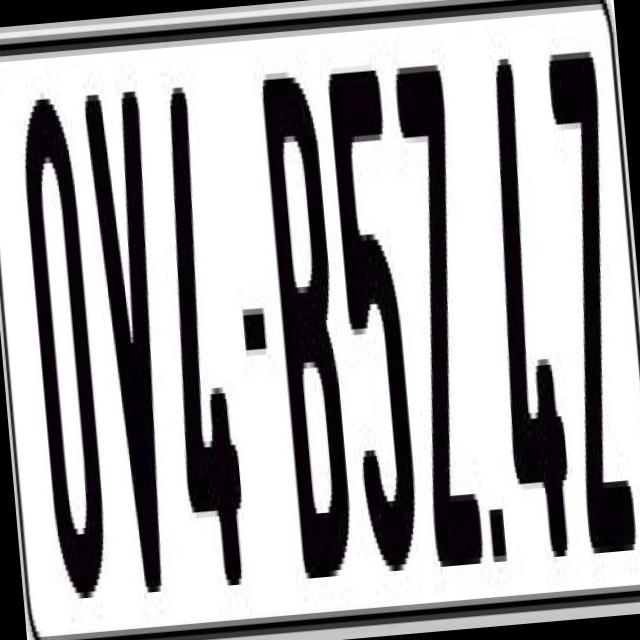0: (16, 85, 113, 600)
4: (474, 39, 580, 578), (151, 84, 256, 624)
5: (325, 57, 431, 596)
B: (256, 69, 360, 602)
V: (82, 72, 190, 594)
Z: (389, 58, 486, 562), (544, 34, 637, 536)
